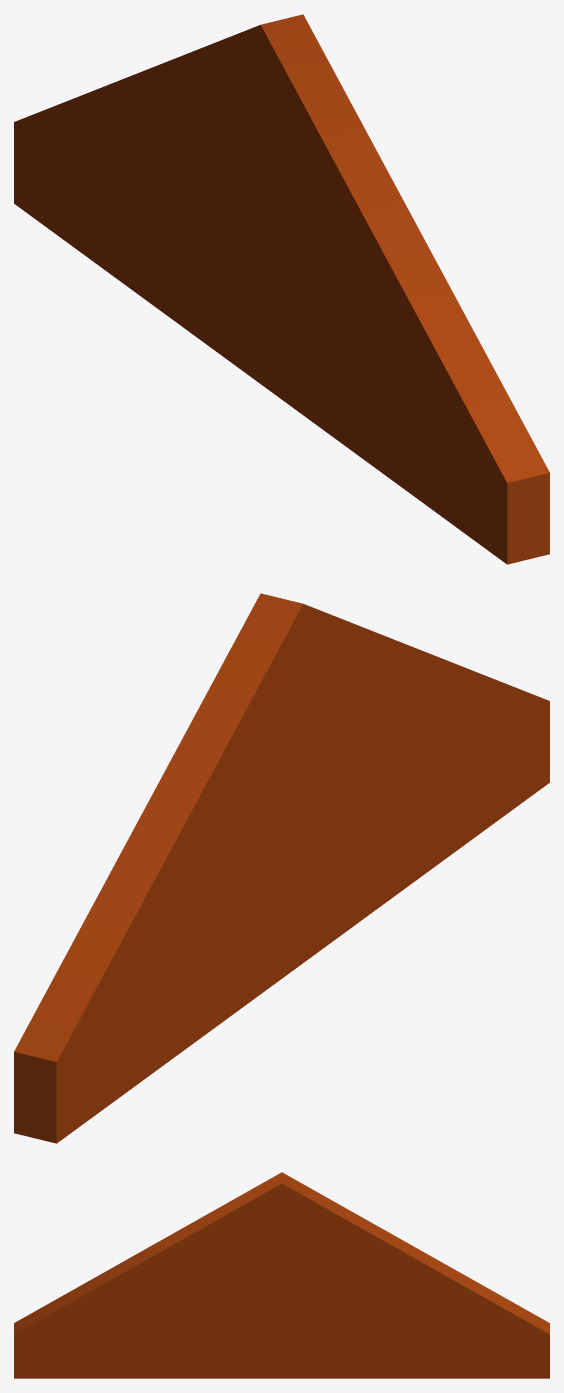
Rendered from Roof2CapSmall.FBX.
3 views of the same model, one above another, from view 1: azimuth 30°, elevation 25°; view 2: azimuth 150°, elevation 25°; view 3: azimuth 270°, elevation 25° (orthographic). The views are drawn at different scales.
Parts seen in each view (by area): view 1: Roof2Small; view 2: Roof2Small; view 3: Roof2Small.
Part boxes in pixels (left/top/right/bottom): Roof2Small: left=14, top=14, right=549, bottom=564; Roof2Small: left=14, top=593, right=549, bottom=1143; Roof2Small: left=14, top=1172, right=549, bottom=1378.
Bounding box in the file's own units: 0.15 × 1.21 × 3.
